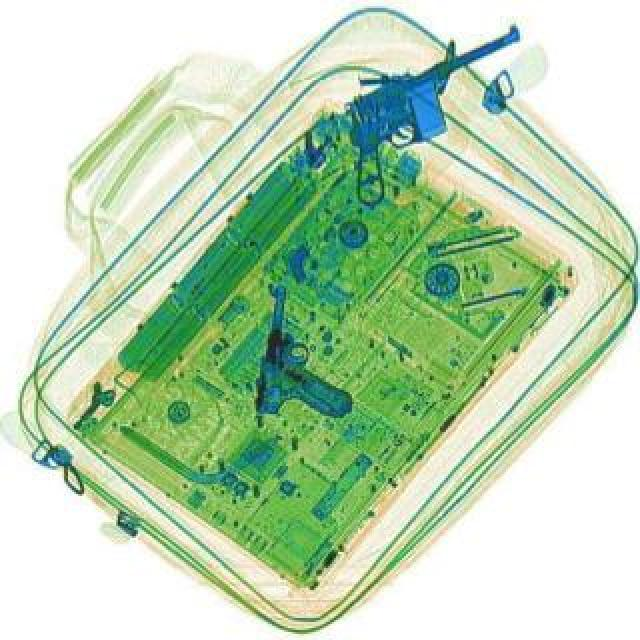gun: (312, 22, 564, 206), (252, 282, 368, 424)
